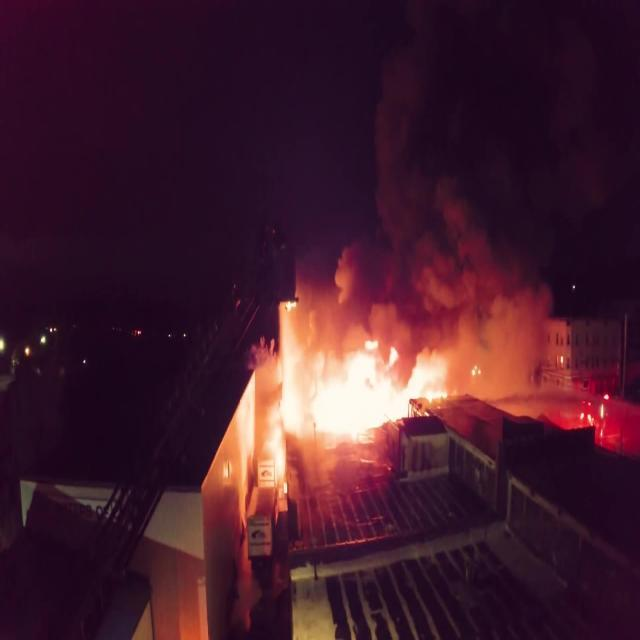Fire: (308, 344, 448, 446)
Smoke: (302, 0, 640, 391)
